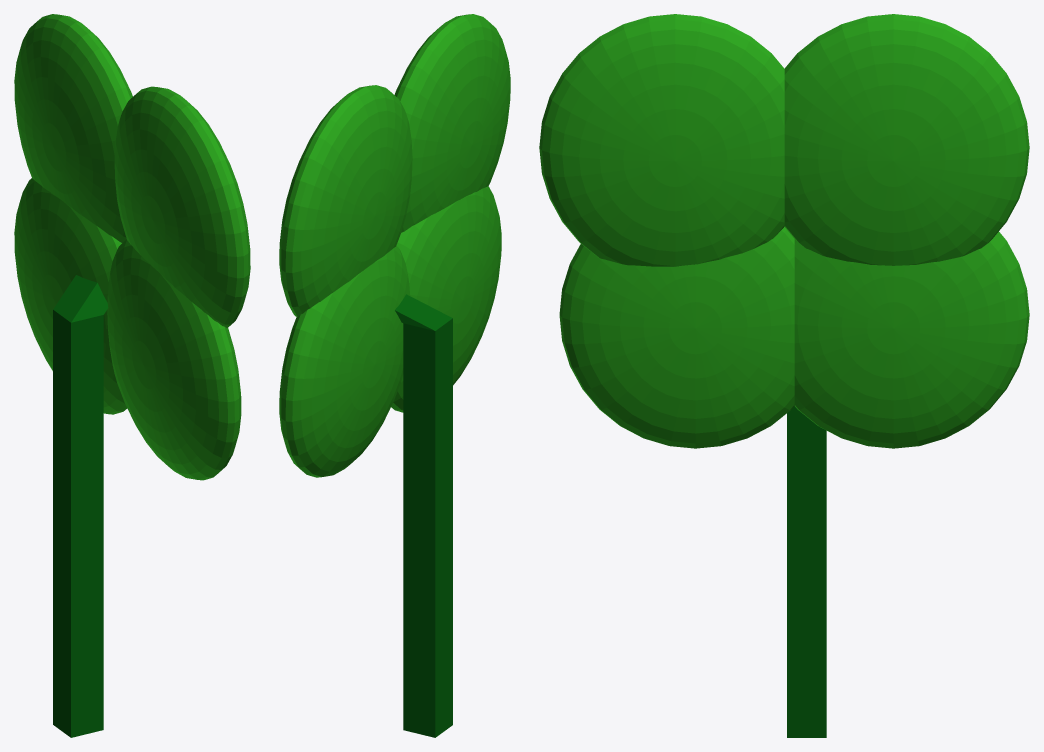
The model's file is Clover.fbx.
3 renders of one model, left to right at view 1: azimuth 30°, elevation 25°; view 2: azimuth 150°, elevation 25°; view 3: azimuth 270°, elevation 25°, orthographic. The views are drawn at different scales.
Visible parts, largest first — view 1: Cube, Sphere.002, Sphere, Sphere.003, Sphere.001; view 2: Cube, Sphere.003, Sphere.001, Sphere.002, Sphere; view 3: Sphere.002, Sphere.003, Sphere, Sphere.001, Cube.
Part boxes in pixels (x1,y1,x2,y2): Cube: [53, 275, 108, 737]; Sphere.002: [114, 86, 250, 327]; Sphere: [107, 239, 241, 480]; Sphere.003: [14, 14, 132, 242]; Sphere.001: [14, 178, 127, 414]; Cube: [395, 294, 452, 737]; Sphere.003: [279, 85, 412, 316]; Sphere.001: [279, 246, 410, 477]; Sphere.002: [394, 14, 510, 232]; Sphere: [391, 186, 501, 412]; Sphere.002: [539, 14, 784, 266]; Sphere.003: [784, 14, 1029, 265]; Sphere: [559, 227, 794, 448]; Sphere.001: [794, 231, 1029, 448]; Cube: [787, 406, 826, 737].
Size of the model in its own units: 6.14 by 43.26 by 26.17.
